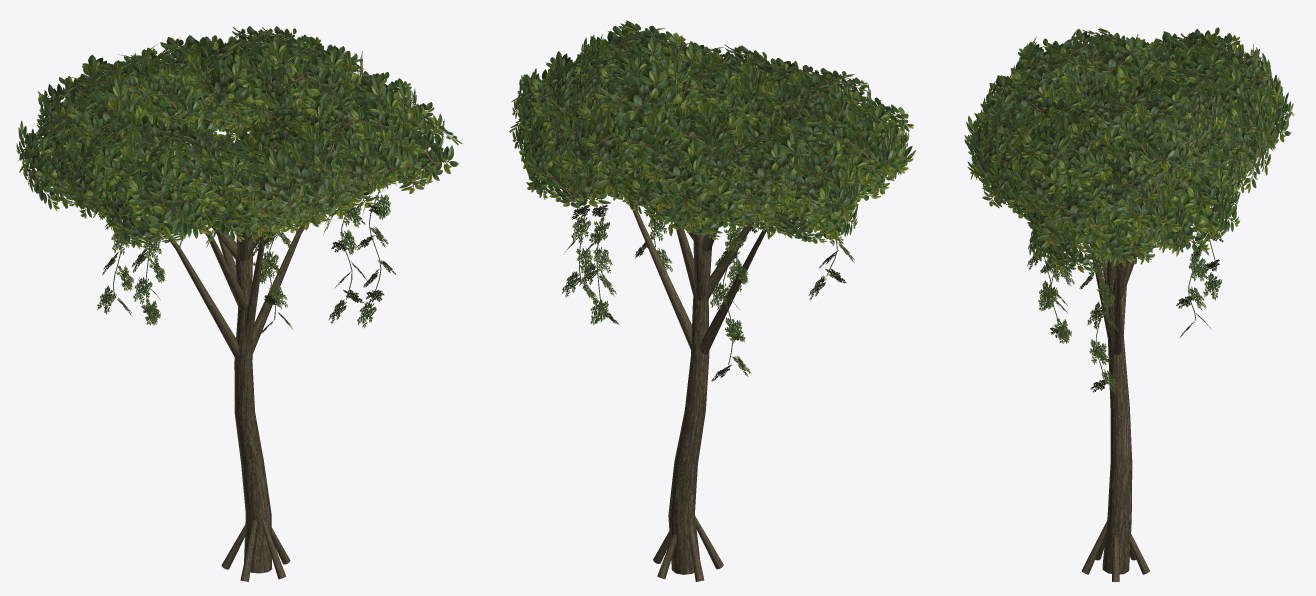
The model's file is tree_06.glb.
3 views of the same model, side by side, from view 1: azimuth 30°, elevation 25°; view 2: azimuth 150°, elevation 25°; view 3: azimuth 270°, elevation 25° (orthographic). The views are drawn at different scales.
Visible parts, largest first — view 1: tree_06; view 2: tree_06; view 3: tree_06.
Boxes of the visible parts, left/top/right/bottom form: tree_06: left=16, top=26, right=462, bottom=581; tree_06: left=509, top=20, right=915, bottom=581; tree_06: left=964, top=27, right=1294, bottom=581.
Size of the model in its own units: 9.48 by 12 by 7.39.
2 materials, 2 textured.
